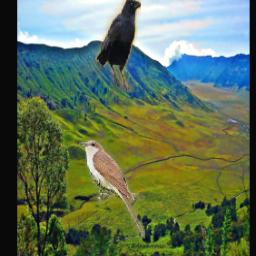Crow: (95, 0, 141, 92)
Cuckoo: (80, 139, 146, 238)
